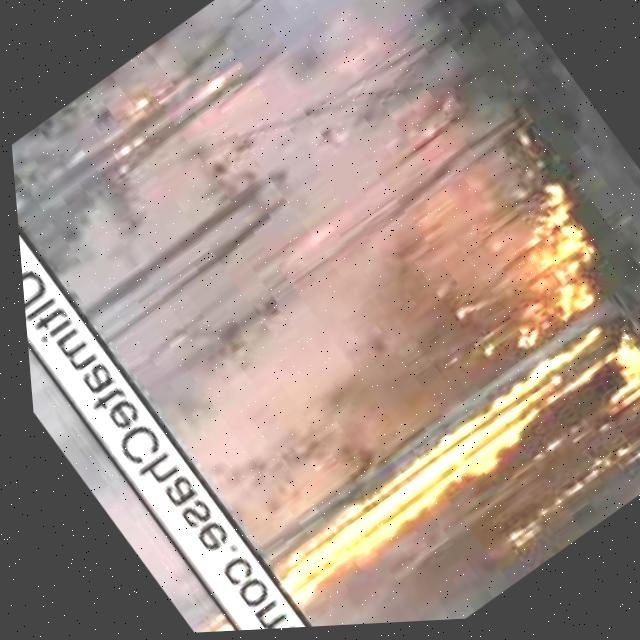Fire: (235, 305, 640, 631), (416, 210, 622, 388)
Smoke: (0, 0, 640, 553), (19, 295, 209, 632)
